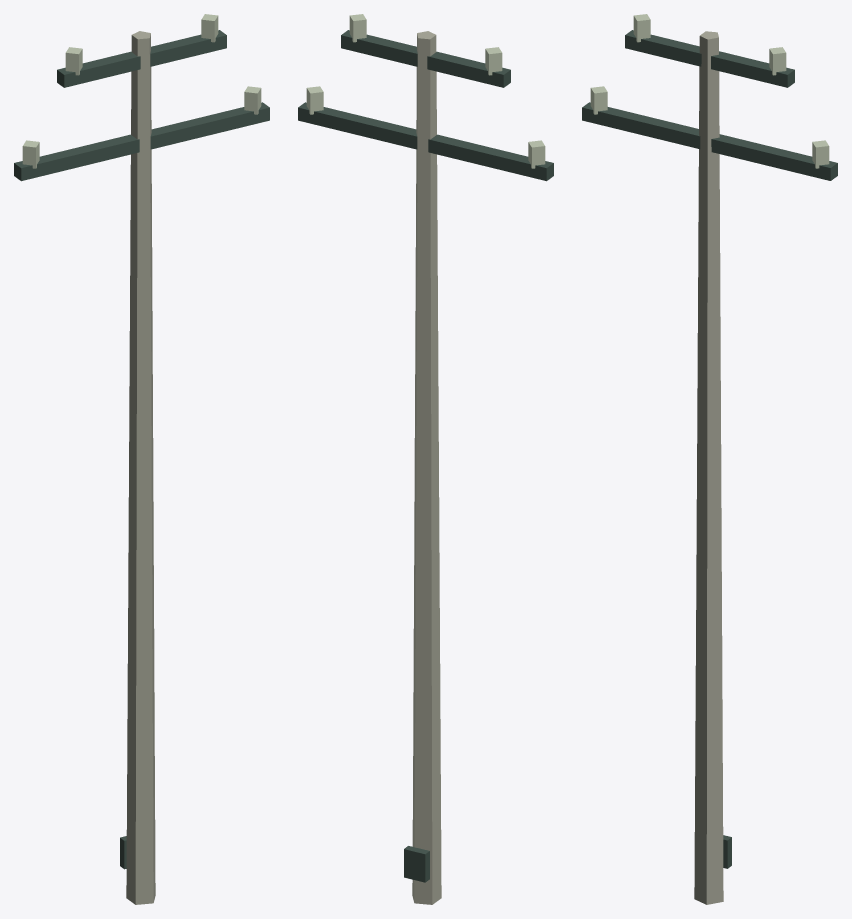
File: ua_rural_pole.obj
3 views of the same model, side by side, from view 1: azimuth 30°, elevation 25°; view 2: azimuth 150°, elevation 25°; view 3: azimuth 330°, elevation 25° (orthographic).
Parts seen in each view (by area): view 1: ua_rural_pole; view 2: ua_rural_pole; view 3: ua_rural_pole.
Boxes of the visible parts, x1,y1,x2,y2 form: ua_rural_pole: [14, 14, 269, 904]; ua_rural_pole: [298, 14, 553, 904]; ua_rural_pole: [582, 14, 837, 904].
Size of the model in its own units: 2.2 by 7.31 by 0.2891.
